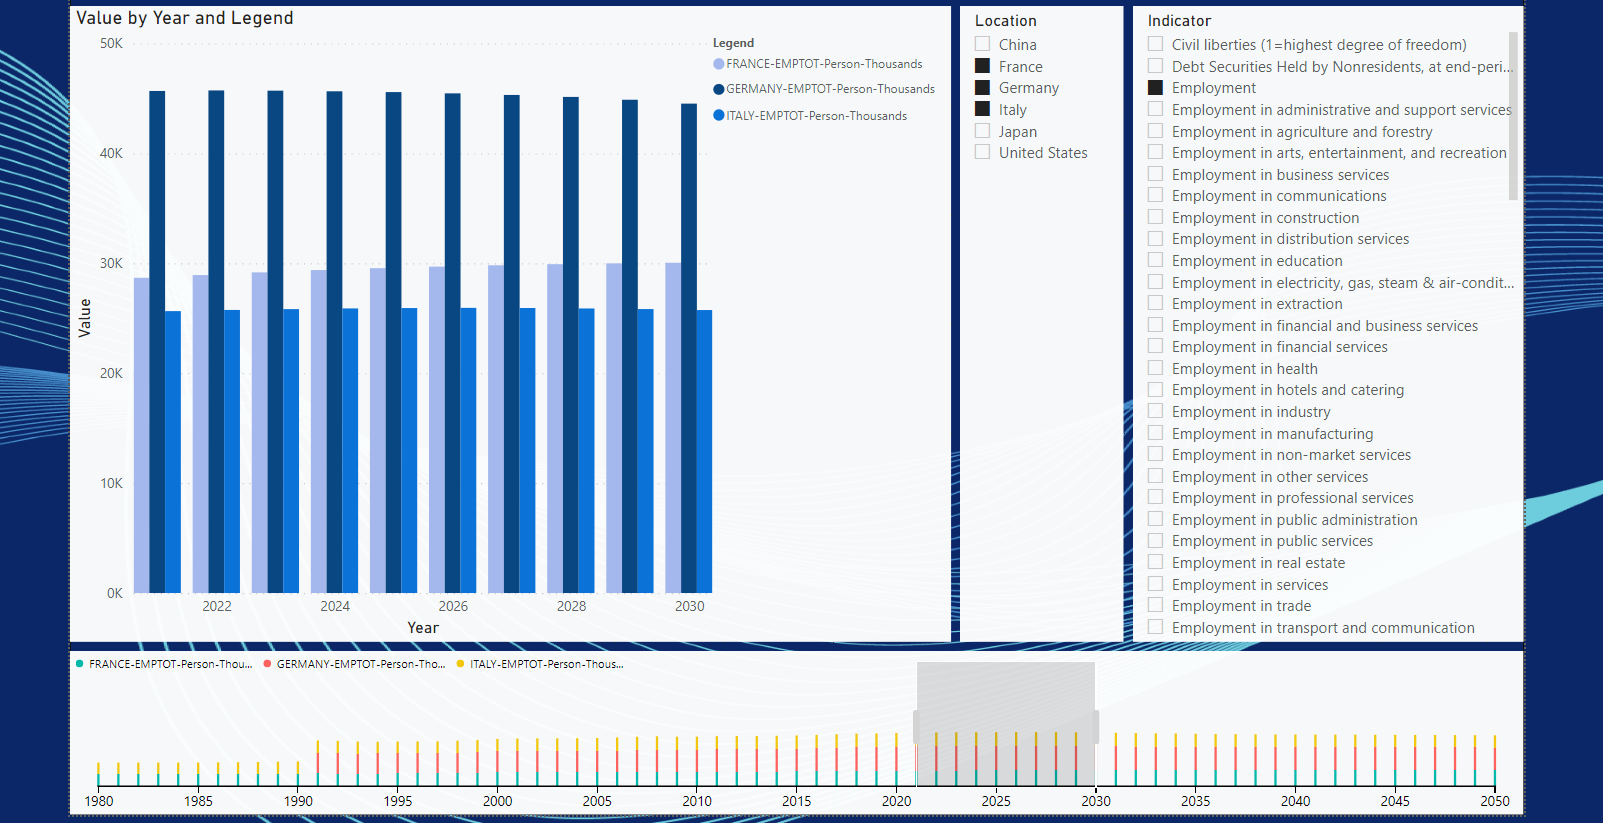

This screenshot's page, from the dashboard's own definition file:
{"tool":"powerbi","page":{"name":"Page 1","canvas":[1280,720],"ordinal":0},"visuals":[{"type":"clusteredColumnChart","fields":{"Y":["Sum(CustomMacroModel_L_A?cmd=Limit 1000.Value)"],"Series":["CustomMacroModel_L_A?cmd=Limit 1000.Legend"],"Category":["CustomMacroModel_L_A?cmd=Limit 1000.YearDt.Variation.Date Hierarchy.Year"]},"box":[0,8,776,560],"z":0},{"type":"slicer","fields":{"Values":["CustomMacroModel_L_A?cmd=Limit 1000.Location"]},"box":[784,8,144,560],"z":1000},{"type":"slicer","fields":{"Values":["CustomMacroModel_L_A?cmd=Limit 1000.Indicator"]},"box":[936,8,344,560],"z":2000},{"type":"TimeBrush1450434005853","fields":{"Times":["CustomMacroModel_L_A?cmd=Limit 1000.YearDt"],"Values":["Sum(CustomMacroModel_L_A?cmd=Limit 1000.Value)"],"Series":["CustomMacroModel_L_A?cmd=Limit 1000.Legend"]},"box":[0,576,1280,144],"z":3000}]}

Visuals, with their boxes in screenshot pixels (x1, y1, x2, y2):
clusteredColumnChart - Sum(CustomMacroModel_L_A?cmd=Limit 1000.Value) x CustomMacroModel_L_A?cmd=Limit 1000.Legend: (75,5,949,636)
slicer - CustomMacroModel_L_A?cmd=Limit 1000.Location: (958,5,1120,636)
slicer - CustomMacroModel_L_A?cmd=Limit 1000.Indicator: (1129,5,1517,636)
TimeBrush1450434005853 - CustomMacroModel_L_A?cmd=Limit 1000.YearDt x Sum(CustomMacroModel_L_A?cmd=Limit 1000.Value): (75,645,1517,807)
